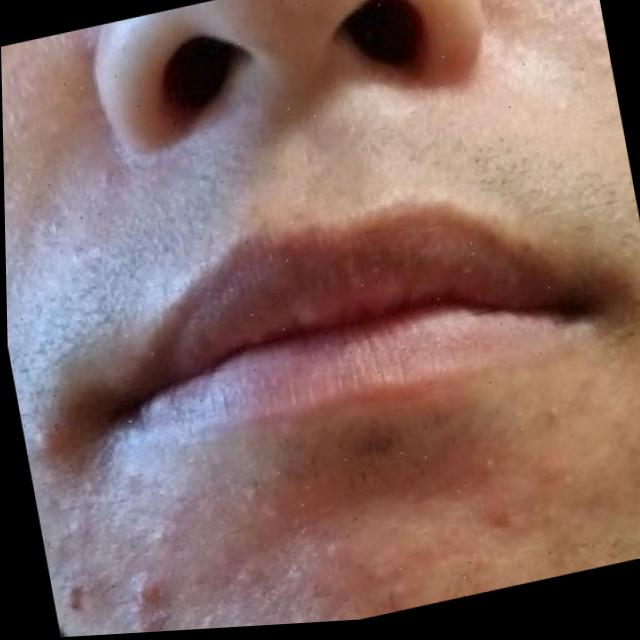Acne: (47, 440, 544, 638)
